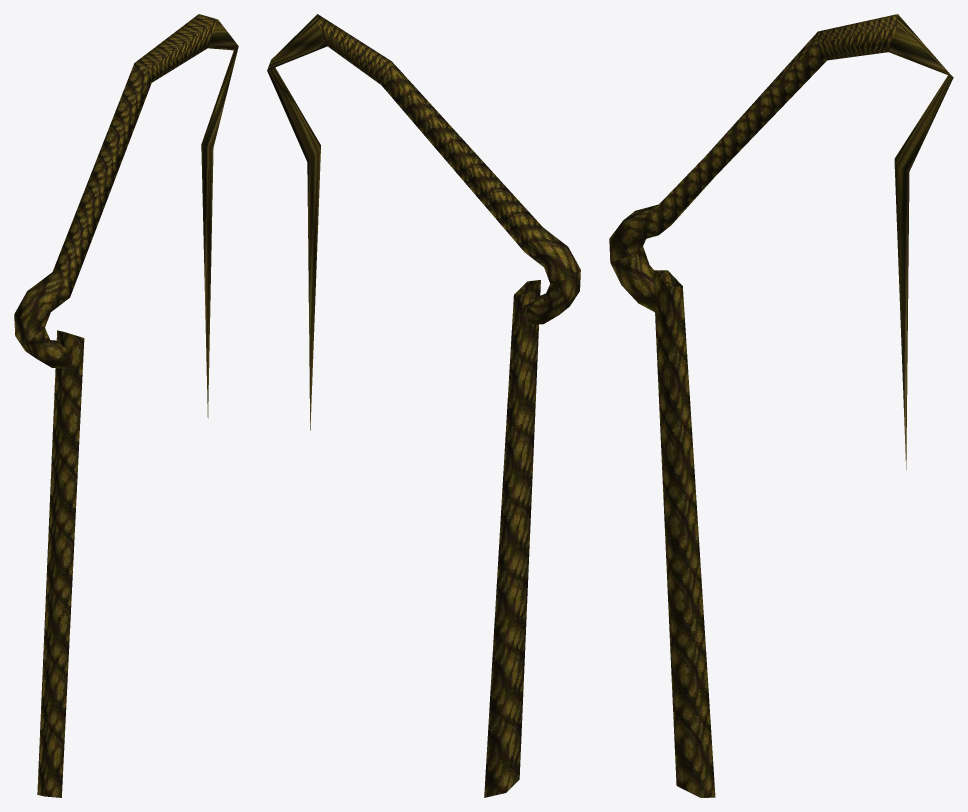
File: EVT_OC_MAINGATE02_03.glb
3 renders of one model, left to right at view 1: azimuth 30°, elevation 25°; view 2: azimuth 150°, elevation 25°; view 3: azimuth 330°, elevation 25°, orthographic. The views are drawn at different scales.
Parts seen in each view (by area): view 1: Mesh; view 2: Mesh; view 3: Mesh.
Part boxes in pixels (<box>): Mesh: <box>14,14,238,797</box>; Mesh: <box>267,14,580,797</box>; Mesh: <box>609,14,953,797</box>.
Bounding box in the file's own units: 2.72 × 7.36 × 0.978.
Materials: 1 (1 with a texture image).
